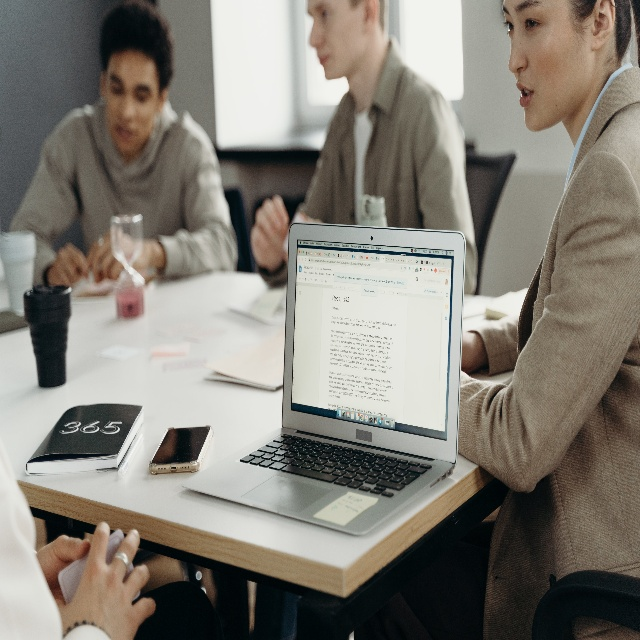Sin_guantes: (55, 530, 157, 635), (39, 541, 89, 610), (85, 230, 147, 282), (249, 192, 288, 268), (48, 244, 88, 285)
